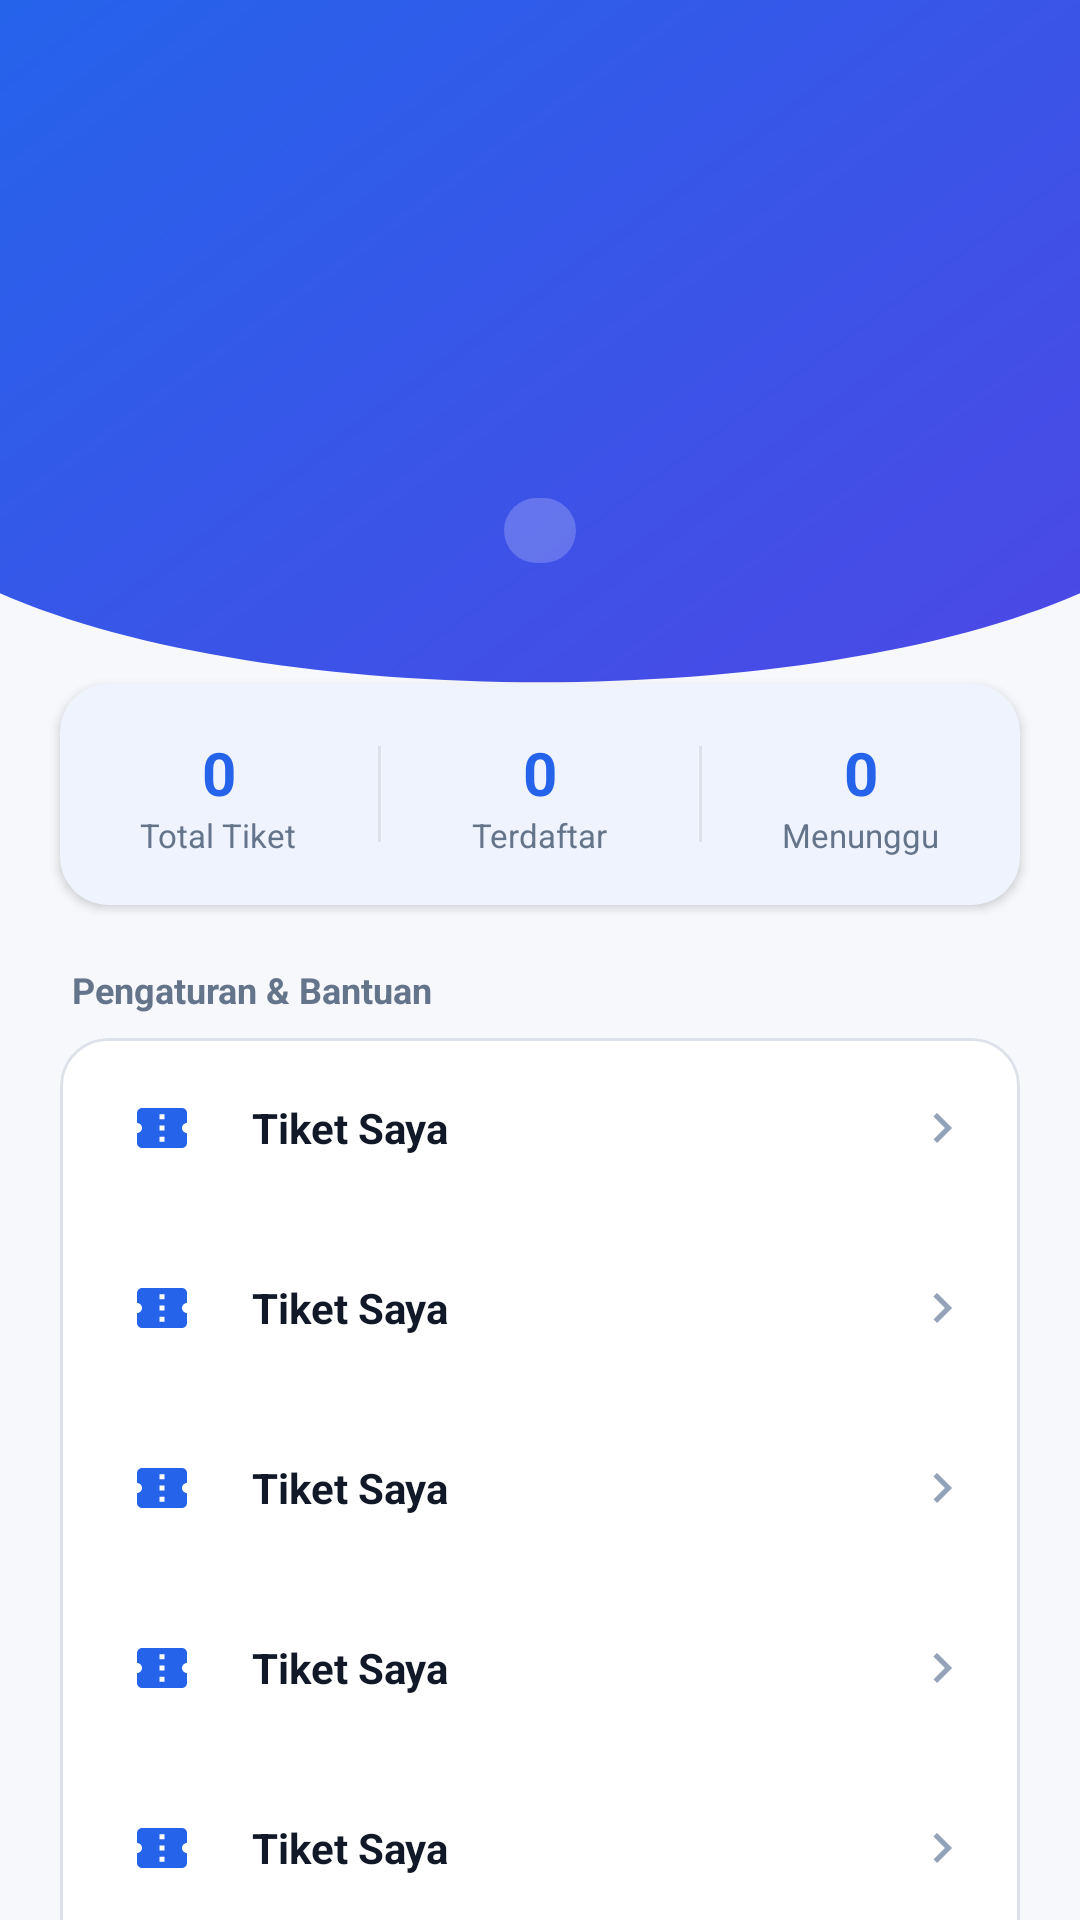

Point at icon controls on the screen. Image size 1080px×1920px, points as (x=x, y=y).
Buka: (x=942, y=1128), (x=942, y=1308), (x=942, y=1488), (x=942, y=1668), (x=942, y=1848)
